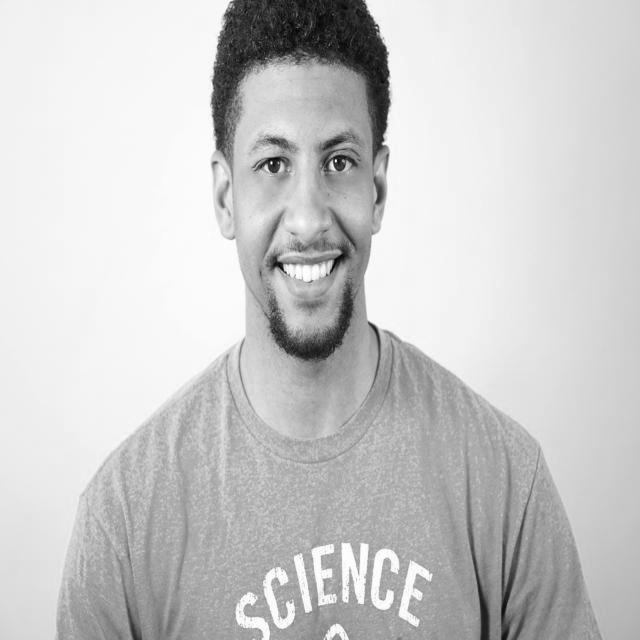Happiness: (230, 56, 378, 362)
